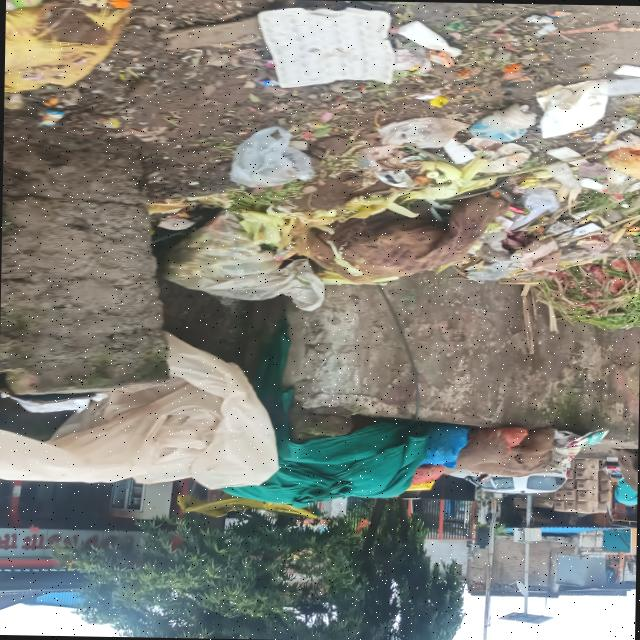garbage: (168, 80, 640, 321)
